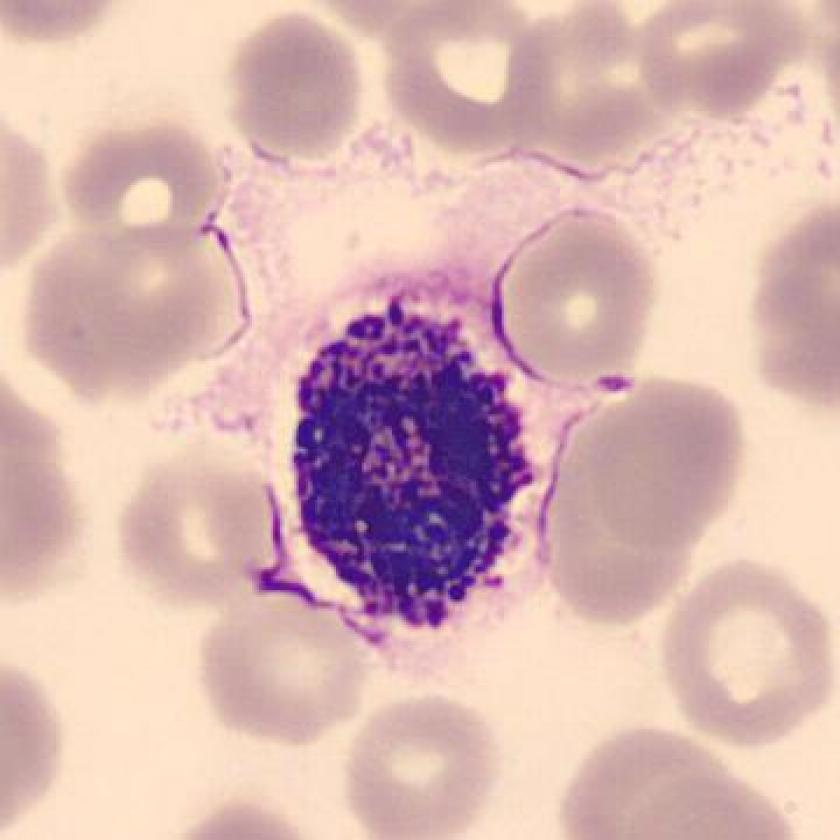basophil: (279, 286, 545, 621)
